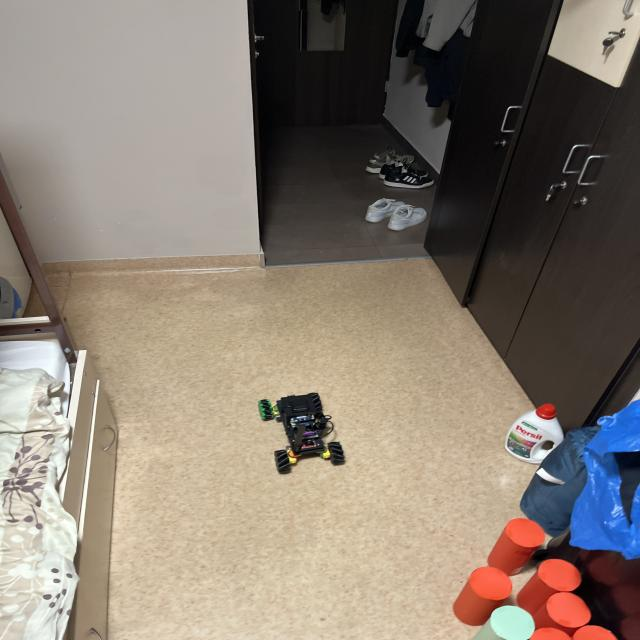robot: (258, 393, 345, 474)
